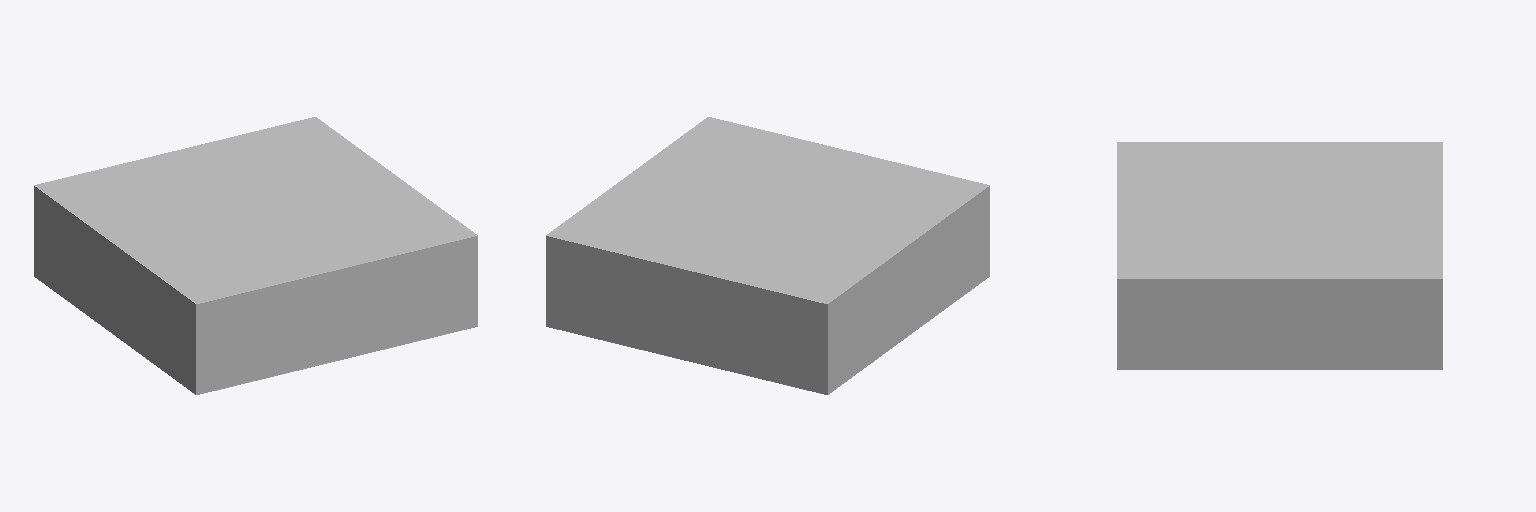
The model's file is tile_base_01.obj.
3 views of the same model, side by side, from view 1: azimuth 30°, elevation 25°; view 2: azimuth 150°, elevation 25°; view 3: azimuth 270°, elevation 25° (orthographic).
Visible parts, largest first — view 1: Base_Cube.011; view 2: Base_Cube.011; view 3: Base_Cube.011.
Part boxes in pixels (bbox=[...]): Base_Cube.011: bbox=[34, 117, 477, 394]; Base_Cube.011: bbox=[546, 117, 989, 394]; Base_Cube.011: bbox=[1117, 142, 1442, 369].
Bounding box in the file's own units: 2.05 × 0.6321 × 2.05.